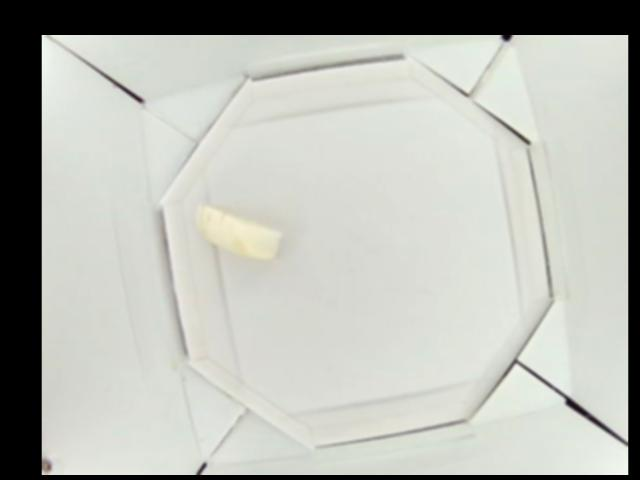Mooli: (195, 200, 281, 262)
